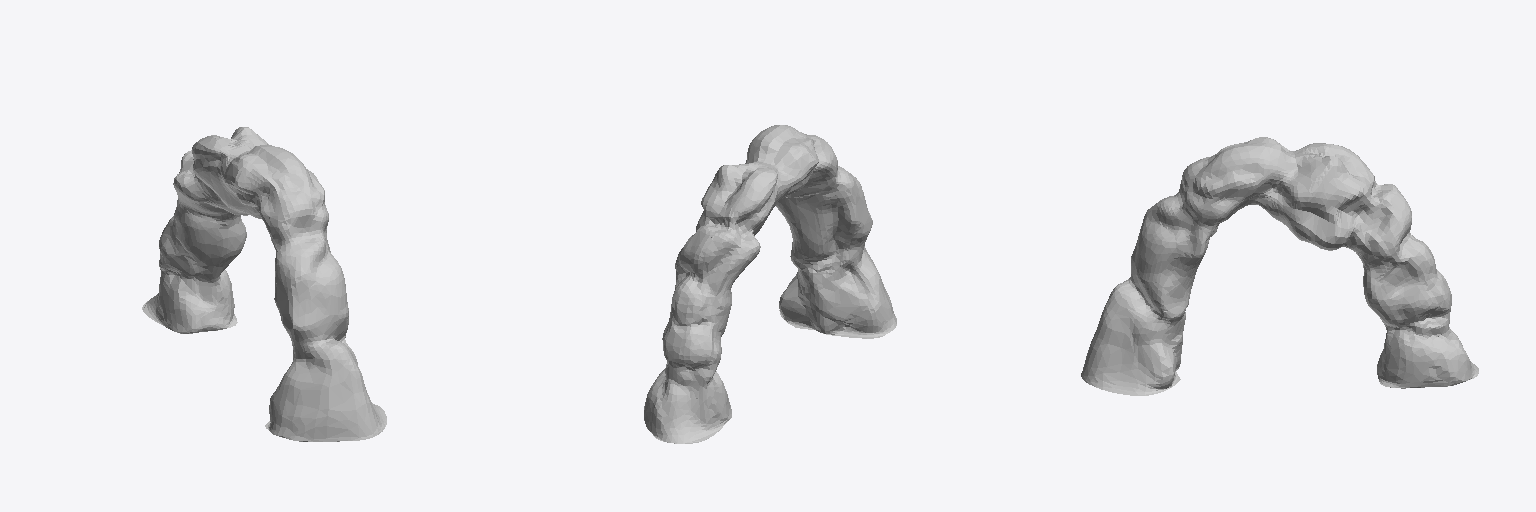
The model's file is Arch.obj.
3 renders of one model, left to right at view 1: azimuth 30°, elevation 25°; view 2: azimuth 150°, elevation 25°; view 3: azimuth 270°, elevation 25°, orthographic.
Parts seen in each view (by area): view 1: Torus.001; view 2: Torus.001; view 3: Torus.001.
Part boxes in pixels (x1,y1,x2,y2): Torus.001: (142, 127, 386, 441); Torus.001: (644, 125, 896, 443); Torus.001: (1081, 137, 1478, 395).
Size of the model in its own units: 2.24 by 4.46 by 7.05.